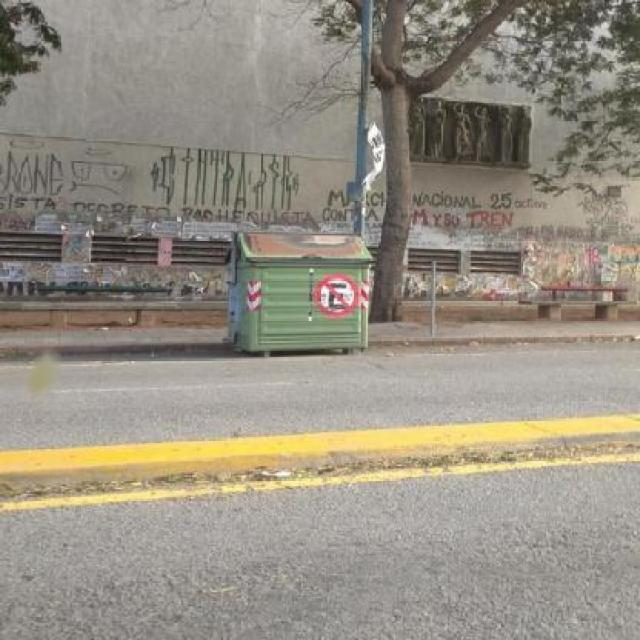garbage: (362, 123, 390, 216)
